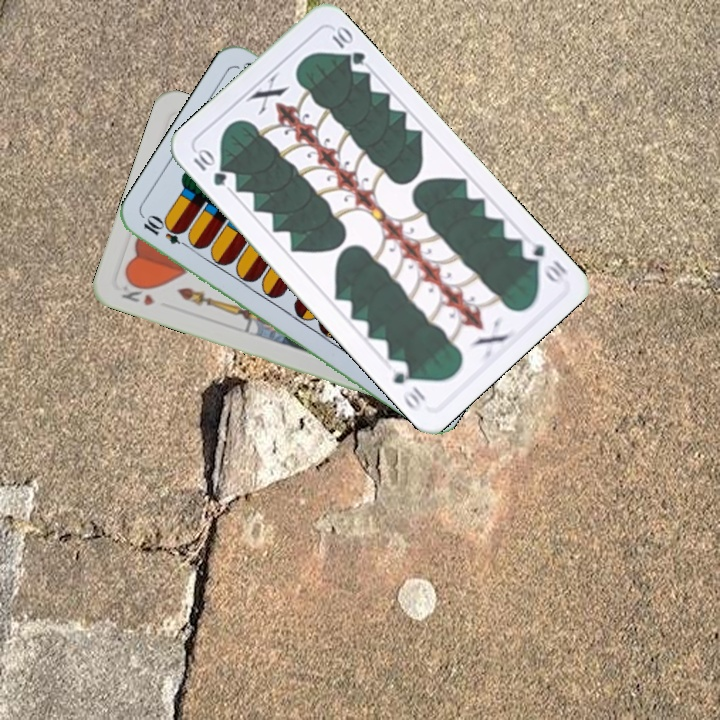E10: (139, 212, 195, 252)
G10: (516, 234, 572, 287), (189, 143, 230, 189)
HK: (117, 276, 157, 309)
